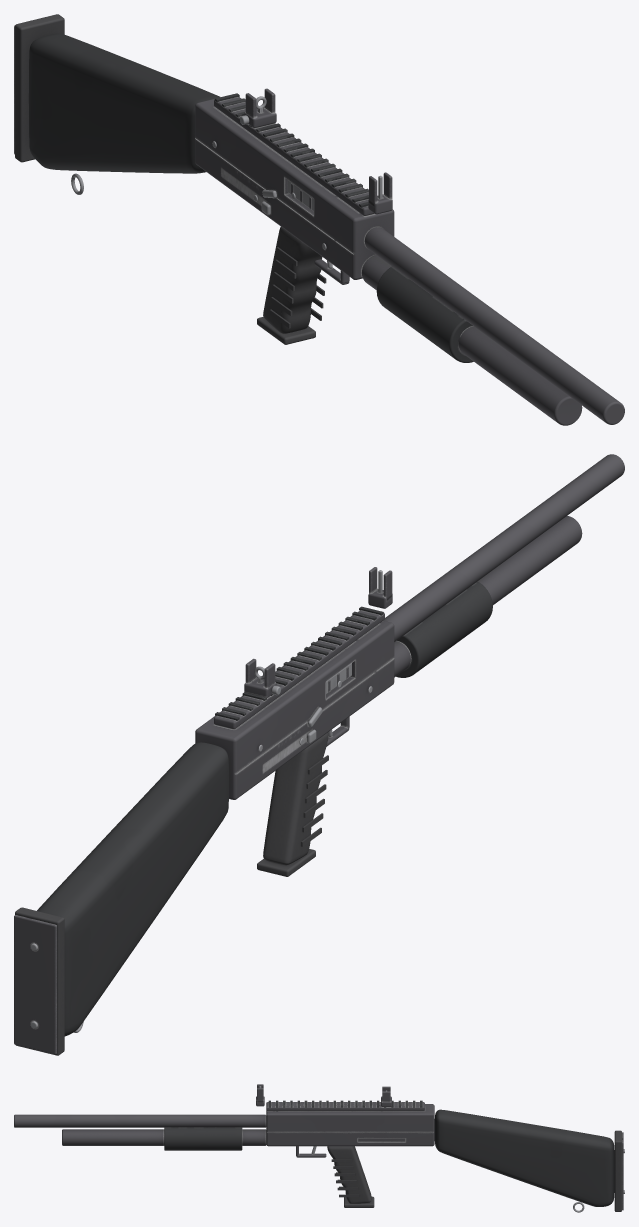
Rendered from nova.fbx.
3 views of the same model, one above another, from view 1: azimuth 30°, elevation 25°; view 2: azimuth 150°, elevation 25°; view 3: azimuth 270°, elevation 25° (orthographic). The views are drawn at different scales.
Visible parts, largest first — view 1: nova; view 2: nova; view 3: nova.
Part boxes in pixels (x1,y1,x2,y2): nova: (14,14,624,425); nova: (14,454,624,1055); nova: (14,1084,624,1212).
Bounding box in the file's own units: 0.0475 × 0.2314 × 1.02.
